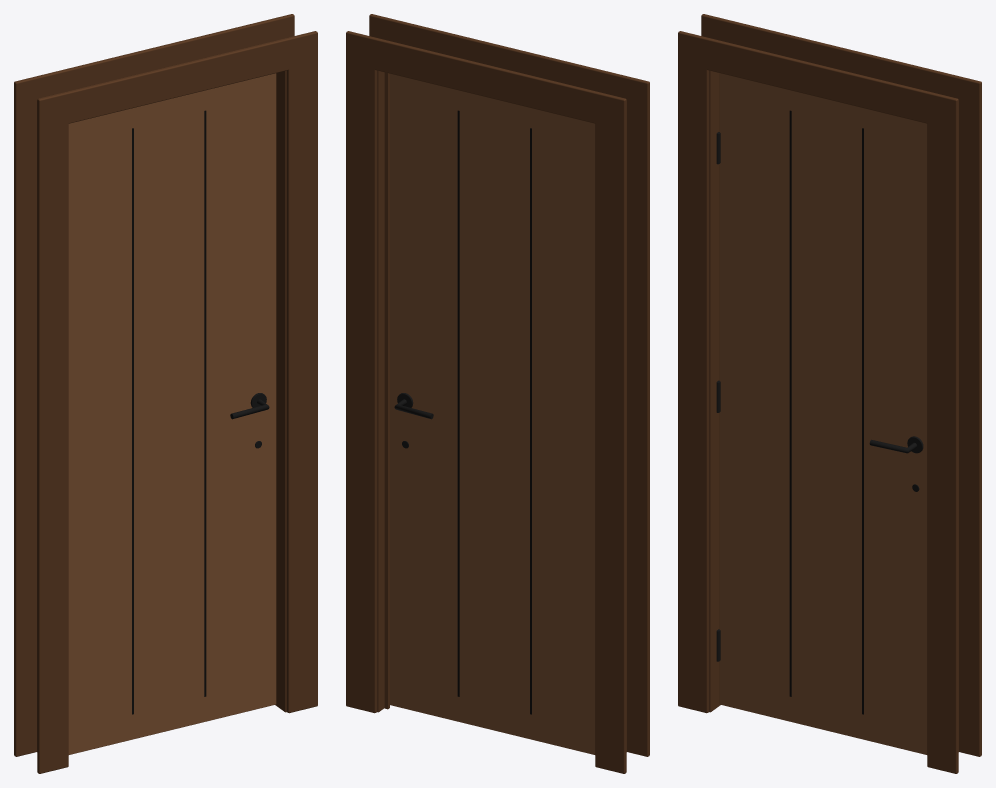
File: porta_80.glb
The picture shows the model from 3 angles, left to right: view 1: azimuth 30°, elevation 25°; view 2: azimuth 150°, elevation 25°; view 3: azimuth 330°, elevation 25°; orthographic projection.
Parts seen in each view (by area): view 1: folha, guarnicao_e, guarnicao_d, guarnicao_e.001, guarnicao_t, batente_d, guarnicao_t.001, friso.001, friso, guarnicao_d.001, batente_e; view 2: folha, guarnicao_e.001, guarnicao_d.001, guarnicao_e, guarnicao_t.001, guarnicao_t, batente_d, batedor_d, friso.003, friso.002, guarnicao_d, batente_e; view 3: folha, guarnicao_d, guarnicao_e, guarnicao_d.001, guarnicao_t, batente_e, guarnicao_t.001, friso, friso.001, guarnicao_e.001, batente_d.
Part boxes in pixels (<box>): folha: <box>68,73,276,754</box>; guarnicao_e: <box>37,92,68,773</box>; guarnicao_d: <box>286,31,317,713</box>; guarnicao_e.001: <box>14,74,44,756</box>; guarnicao_t: <box>37,34,317,128</box>; batente_d: <box>275,70,286,712</box>; guarnicao_t.001: <box>14,17,293,112</box>; friso.001: <box>204,110,206,696</box>; friso: <box>132,128,133,714</box>; guarnicao_d.001: <box>265,14,294,42</box>; batente_e: <box>37,100,37,751</box>; folha: <box>390,74,595,754</box>; guarnicao_e.001: <box>595,92,626,773</box>; guarnicao_d.001: <box>346,31,377,713</box>; guarnicao_e: <box>619,74,649,756</box>; guarnicao_t.001: <box>346,34,626,128</box>; guarnicao_t: <box>370,17,649,112</box>; batente_d: <box>377,70,384,712</box>; batedor_d: <box>384,72,389,709</box>; friso.003: <box>457,110,459,696</box>; friso.002: <box>530,128,531,714</box>; guarnicao_d: <box>369,14,398,42</box>; batente_e: <box>626,100,626,751</box>; folha: <box>719,73,927,754</box>; guarnicao_d: <box>927,92,958,773</box>; guarnicao_e: <box>678,31,709,713</box>; guarnicao_d.001: <box>951,74,981,756</box>; guarnicao_t: <box>678,34,958,128</box>; batente_e: <box>709,70,720,712</box>; guarnicao_t.001: <box>701,17,980,112</box>; friso: <box>789,110,791,696</box>; friso.001: <box>862,128,863,714</box>; guarnicao_e.001: <box>701,14,730,42</box>; batente_d: <box>958,100,958,751</box>.
Size of the model in its own units: 0.94 by 2.17 by 0.162.
